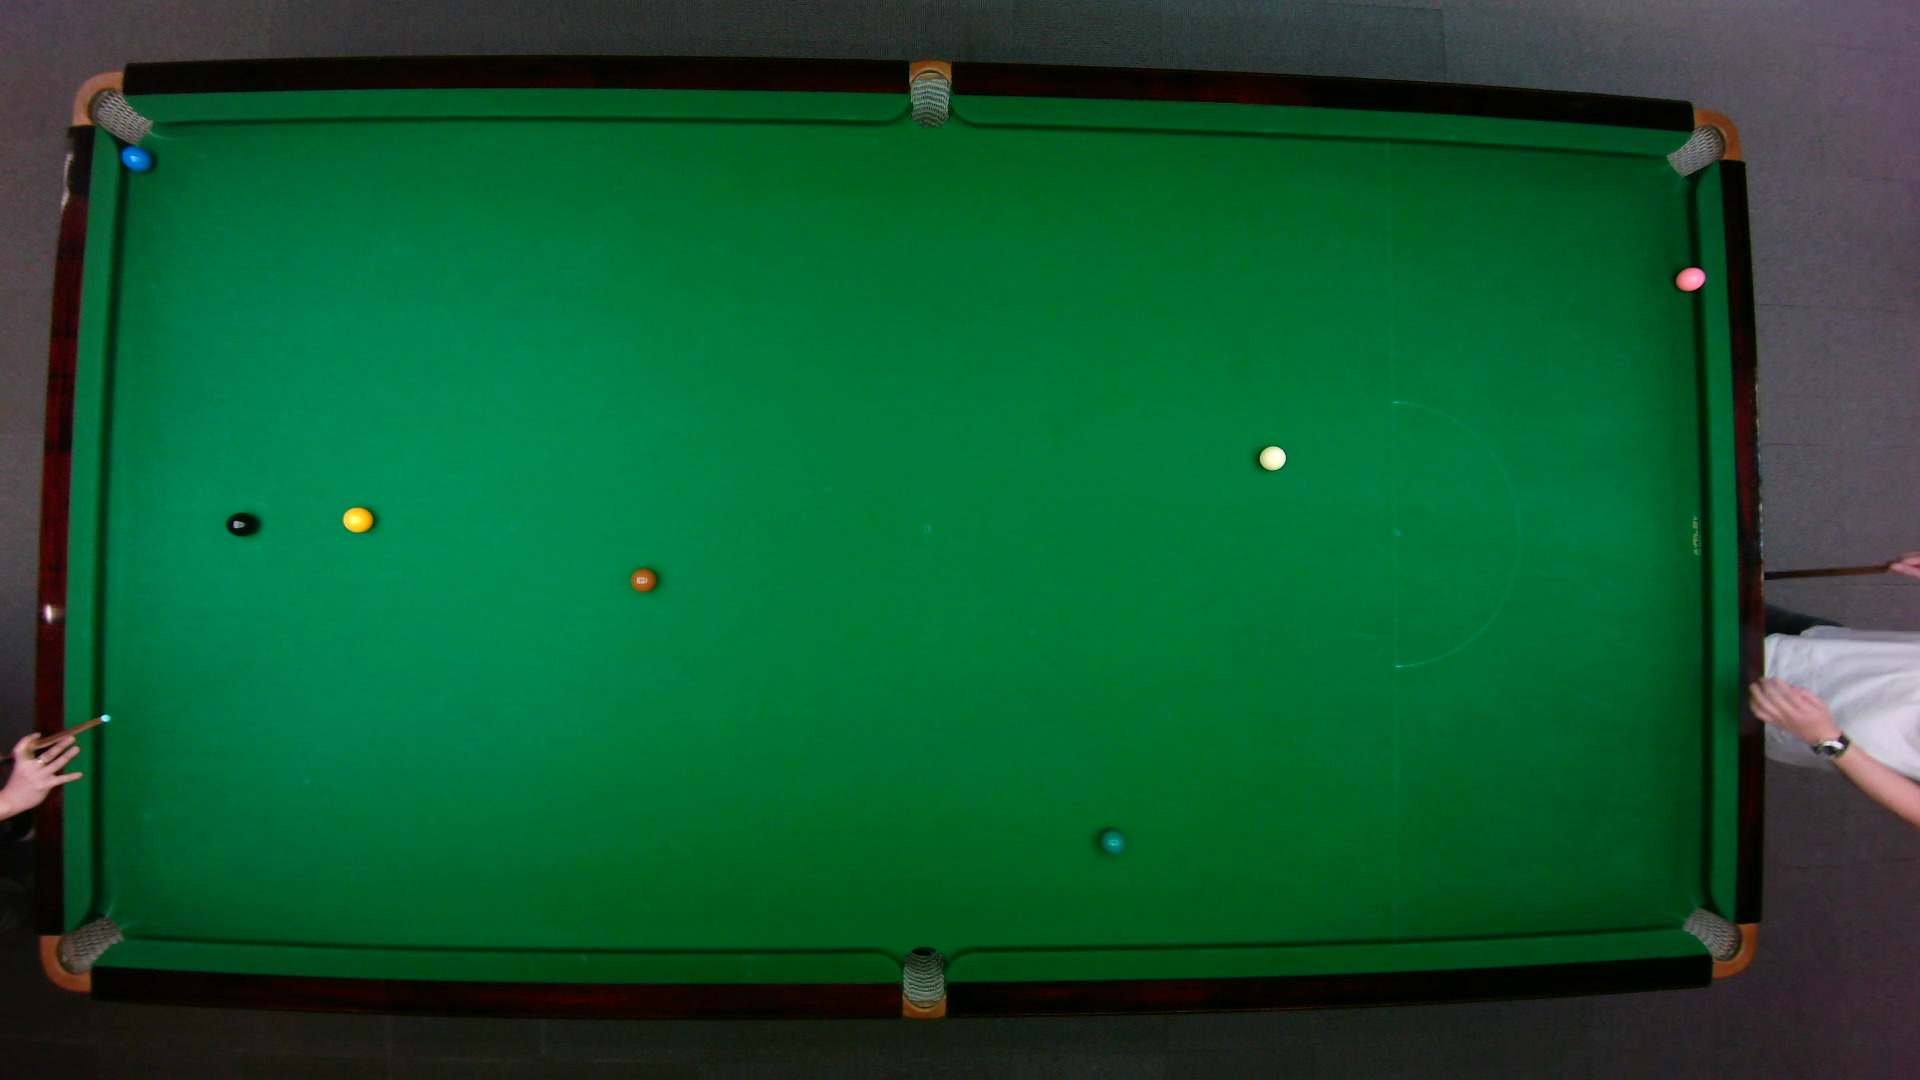bag: (37, 913, 125, 993), (69, 70, 152, 145), (1677, 905, 1758, 978), (1663, 107, 1741, 177), (901, 944, 944, 1019), (909, 57, 949, 128)
black: (223, 510, 256, 537)
blue: (117, 144, 152, 171)
brown: (629, 566, 657, 593)
cue: (1, 711, 113, 767)
green: (1097, 827, 1126, 855)
pink: (1673, 264, 1706, 291)
white: (1255, 443, 1286, 471)
yellow: (340, 504, 375, 533)
zone: (1391, 400, 1520, 669)
